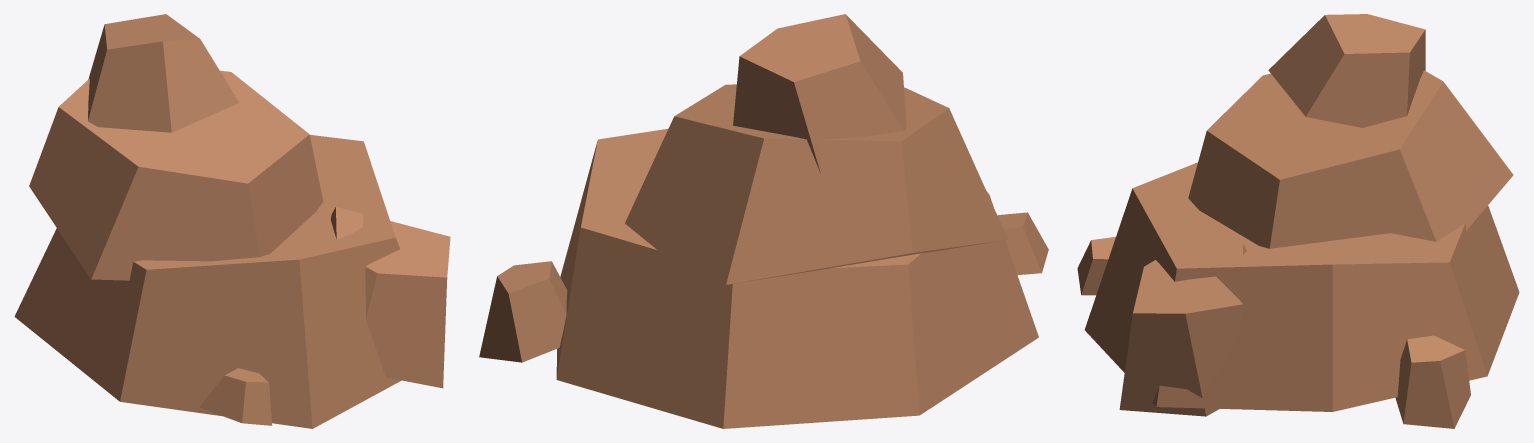
The model's file is rock.glb.
The picture shows the model from 3 angles, left to right: view 1: azimuth 30°, elevation 25°; view 2: azimuth 150°, elevation 25°; view 3: azimuth 270°, elevation 25°; orthographic projection. The views are drawn at different scales.
Parts seen in each view (by area): view 1: rock; view 2: rock; view 3: rock.
Boxes of the visible parts, bbox=[...] form: rock: bbox=[14, 14, 450, 428]; rock: bbox=[479, 14, 1048, 428]; rock: bbox=[1077, 14, 1519, 428].
Bounding box in the file's own units: 1.46 × 1.26 × 1.63.
